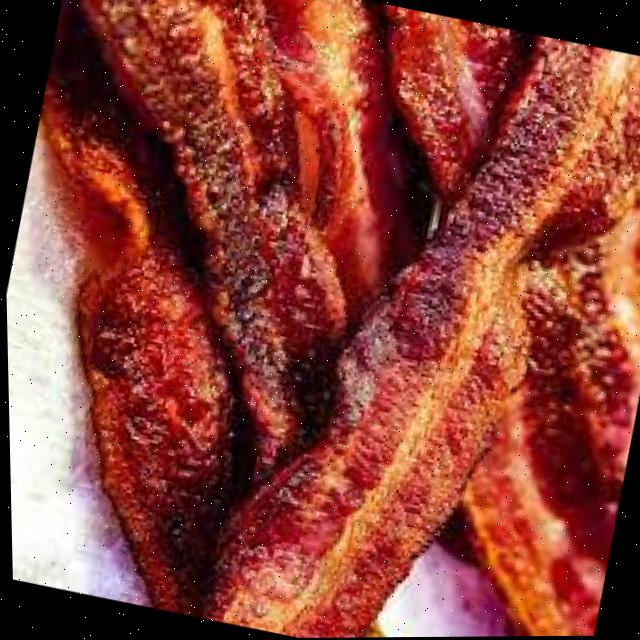Bacon: (200, 46, 640, 638), (85, 0, 374, 446), (39, 0, 244, 616), (184, 0, 426, 323), (460, 245, 634, 637), (459, 396, 603, 637)
